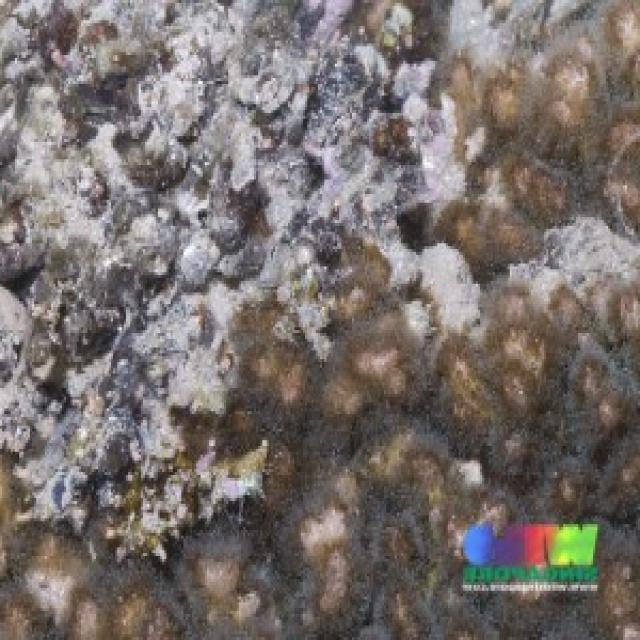Bleached: (1, 12, 423, 352), (1, 348, 269, 561), (505, 216, 637, 322), (445, 1, 614, 75), (420, 243, 487, 345), (21, 573, 76, 619), (303, 509, 355, 557), (487, 168, 513, 208), (466, 125, 489, 165), (458, 459, 485, 489)
Healthy: (271, 359, 640, 620), (77, 548, 258, 640), (508, 95, 638, 212)
